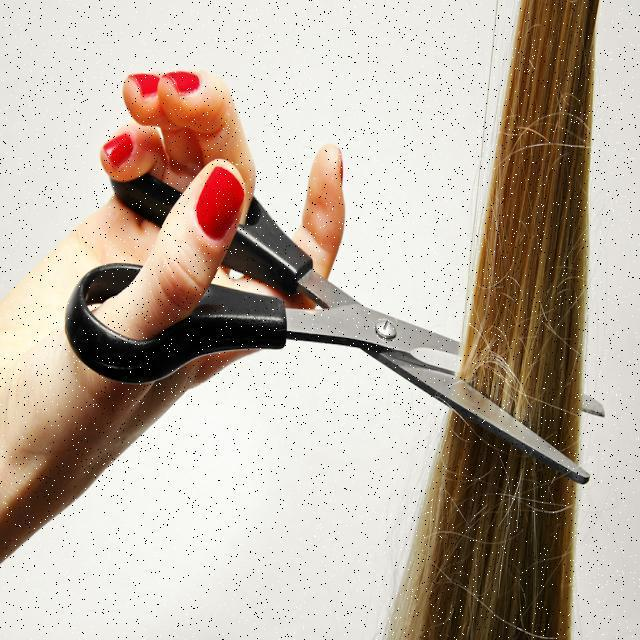scissors: (59, 123, 606, 491)
